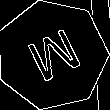M_SE: (20, 22, 85, 88)
